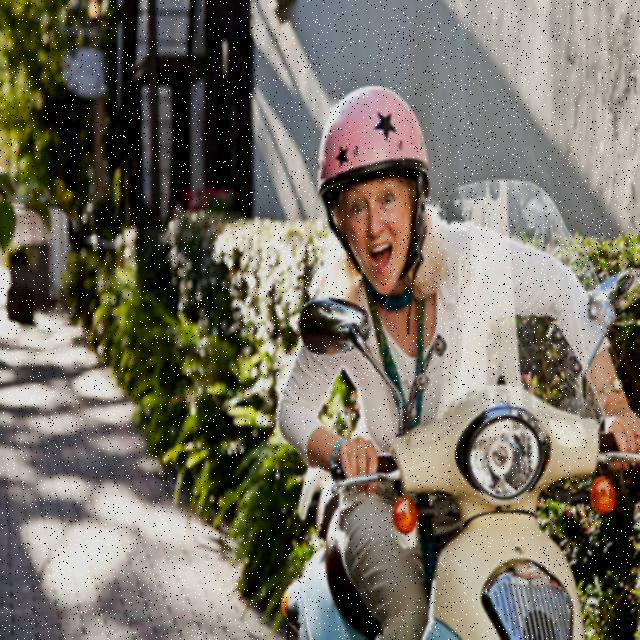not_triplets: (261, 39, 640, 640)
with-helmet: (317, 81, 442, 294)
